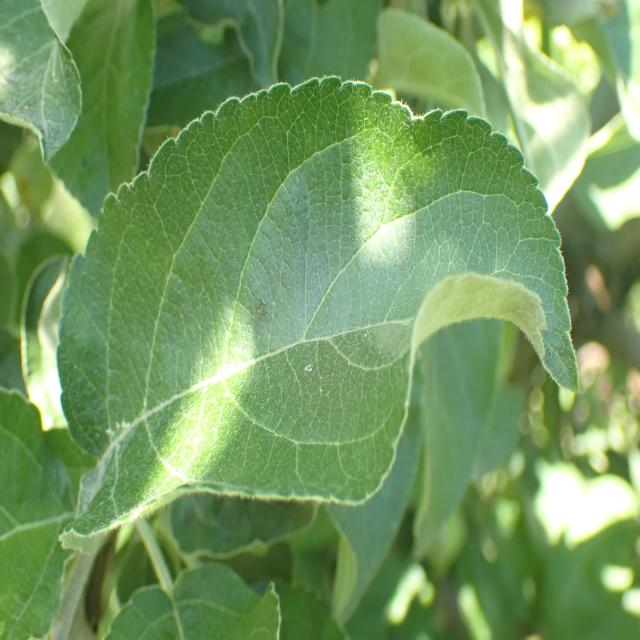healthy: (57, 74, 581, 558), (0, 388, 78, 640), (102, 560, 281, 640), (0, 0, 84, 168)
